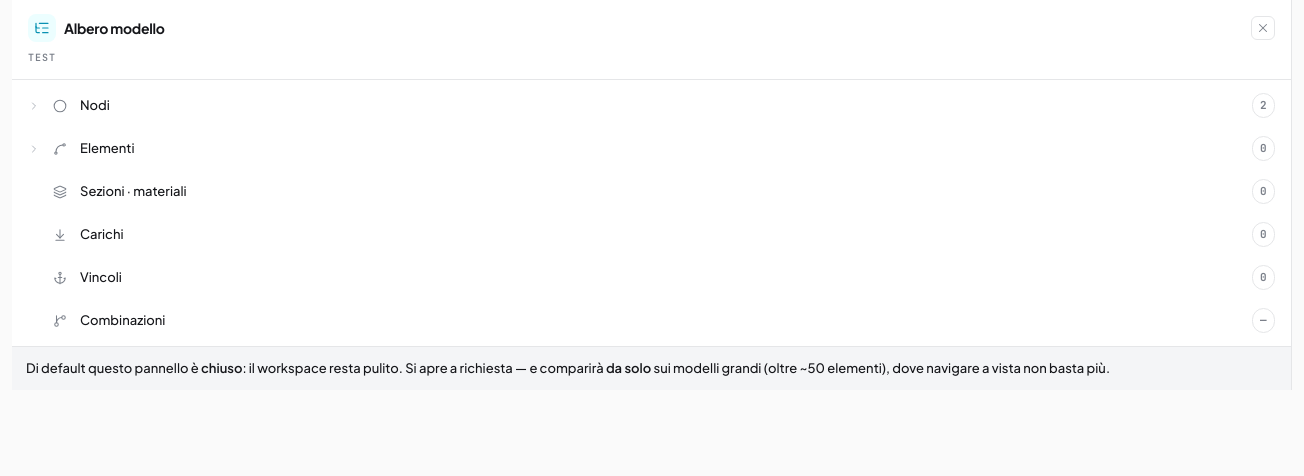
Test case: ShellLeftTreePanel › E2.3 espansione foglie + selezione bidirezionale › click sezione Nodi: espande e mostra foglie N1/N2
Click the button with test id "shell-left-tree-nodes-head": (34, 106) [12,84,1291,127]
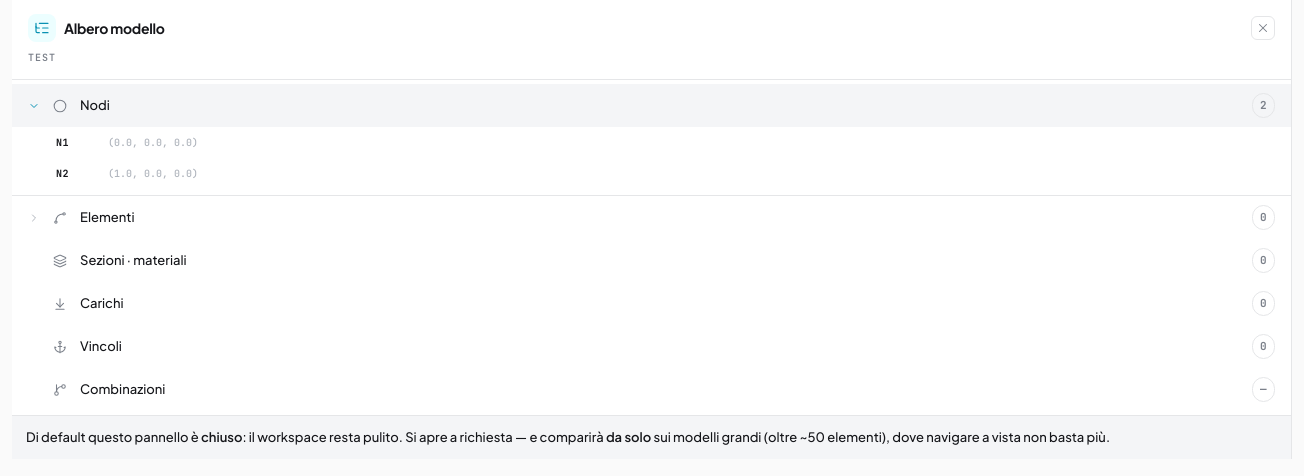
expect the list with test id "shell-left-tree-nodes-leaves" is shown: met, box [12,127,1291,196]
expect the button with test id "shell-left-tree-leaf-node-1" is shown: met, box [12,127,1291,158]
expect the button with test id "shell-left-tree-leaf-node-2" is shown: met, box [12,158,1291,189]
